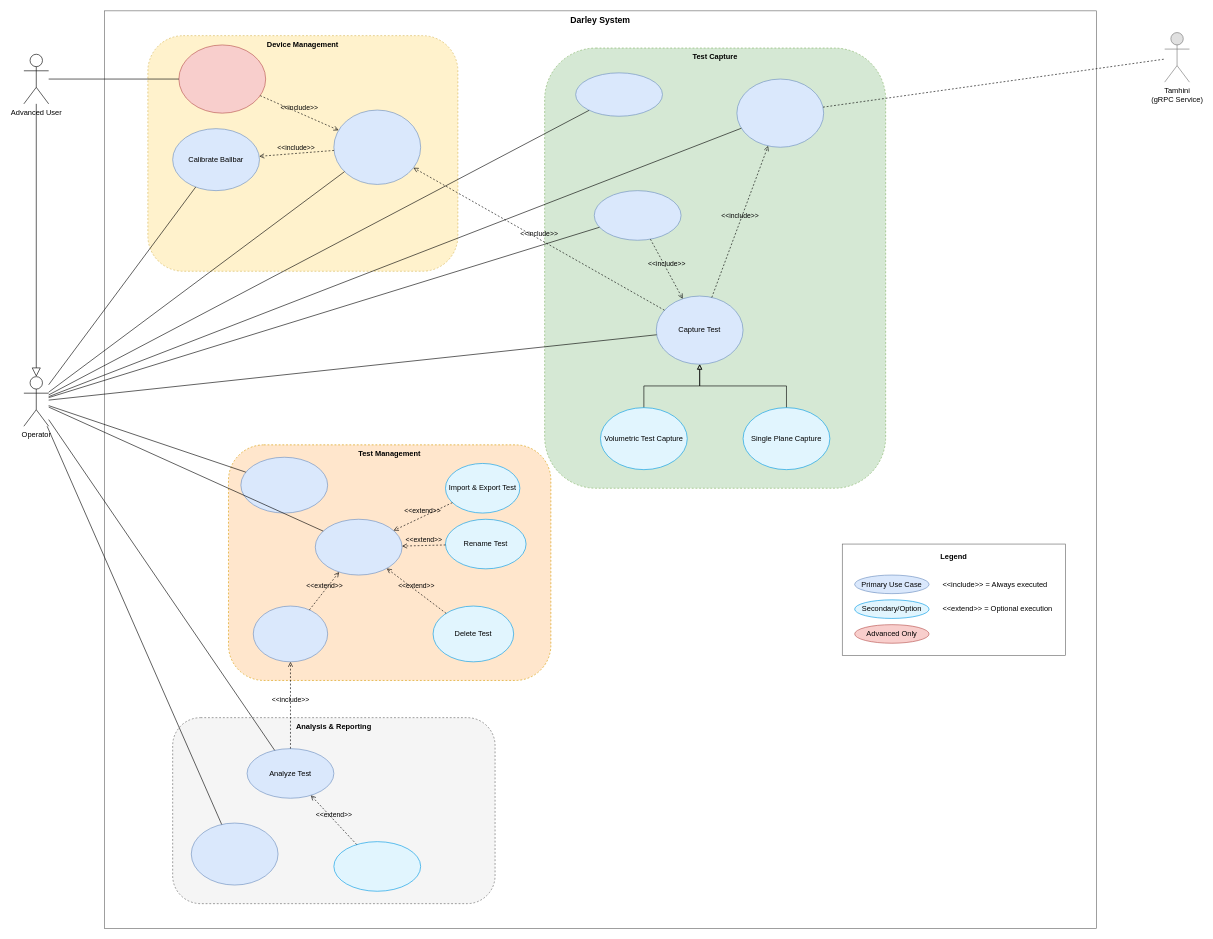
The diagram is 1213 pixels wide and 939 high, and some of its shapes have lost their labels. The centre of each missing label's shape, as x and y in pixels:
"Browse Tests" goes at point 358,547.
"Define CNC Machine Test Setup" goes at point 618,94.
"Open Test" goes at point 290,633.
"Prepare Part Program via Tamhini" goes at point 780,112.
"Print Analysis" goes at point 377,866.
"Quick Check" goes at point 377,146.
"Save Test" goes at point 637,215.
"Setup Ballbar" goes at point 222,78.
"Simulate Ballbar Errors" goes at point 234,853.
"View Performance History" goes at point 284,485.
